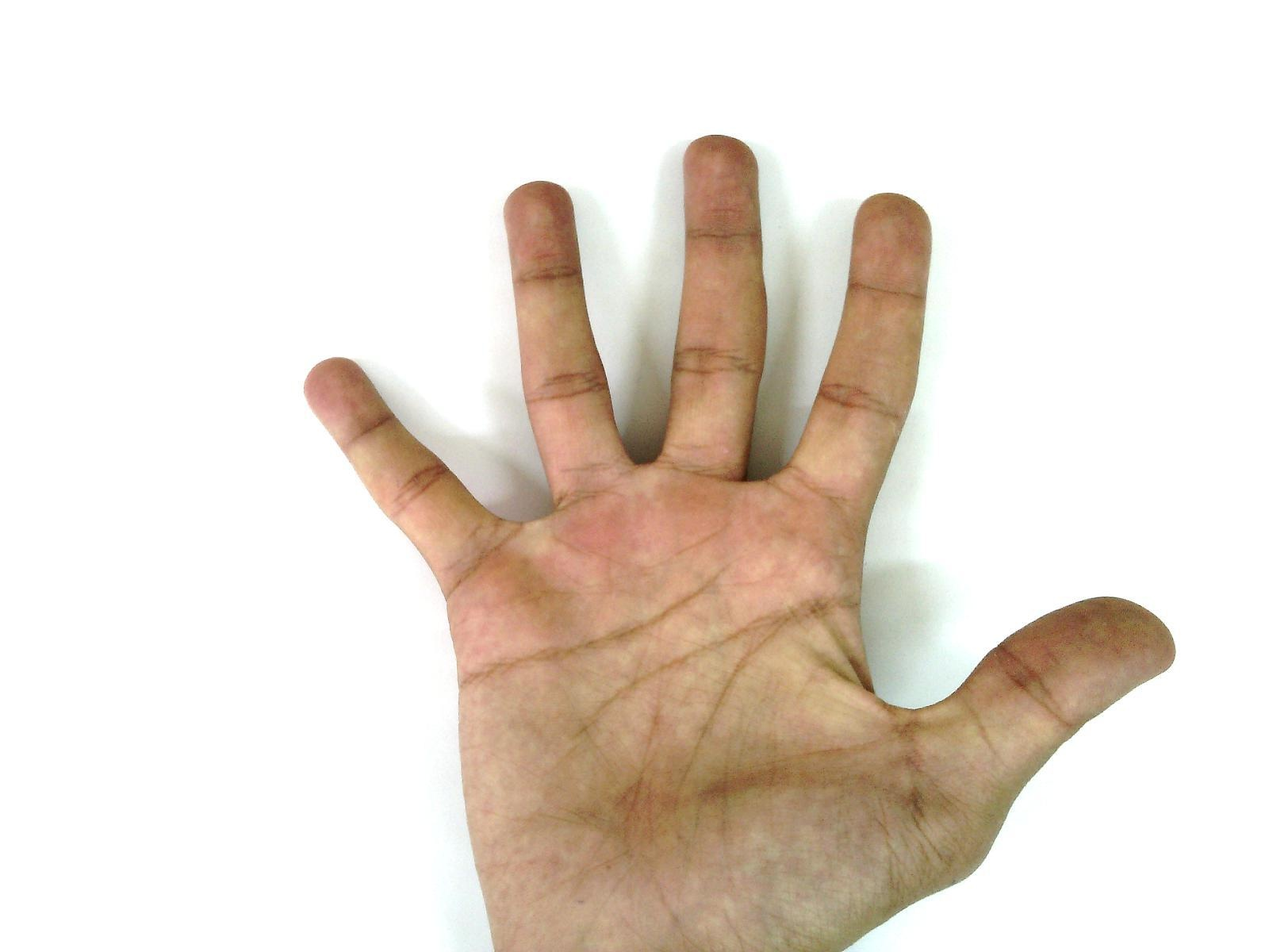open_palm: (301, 132, 1178, 951)
